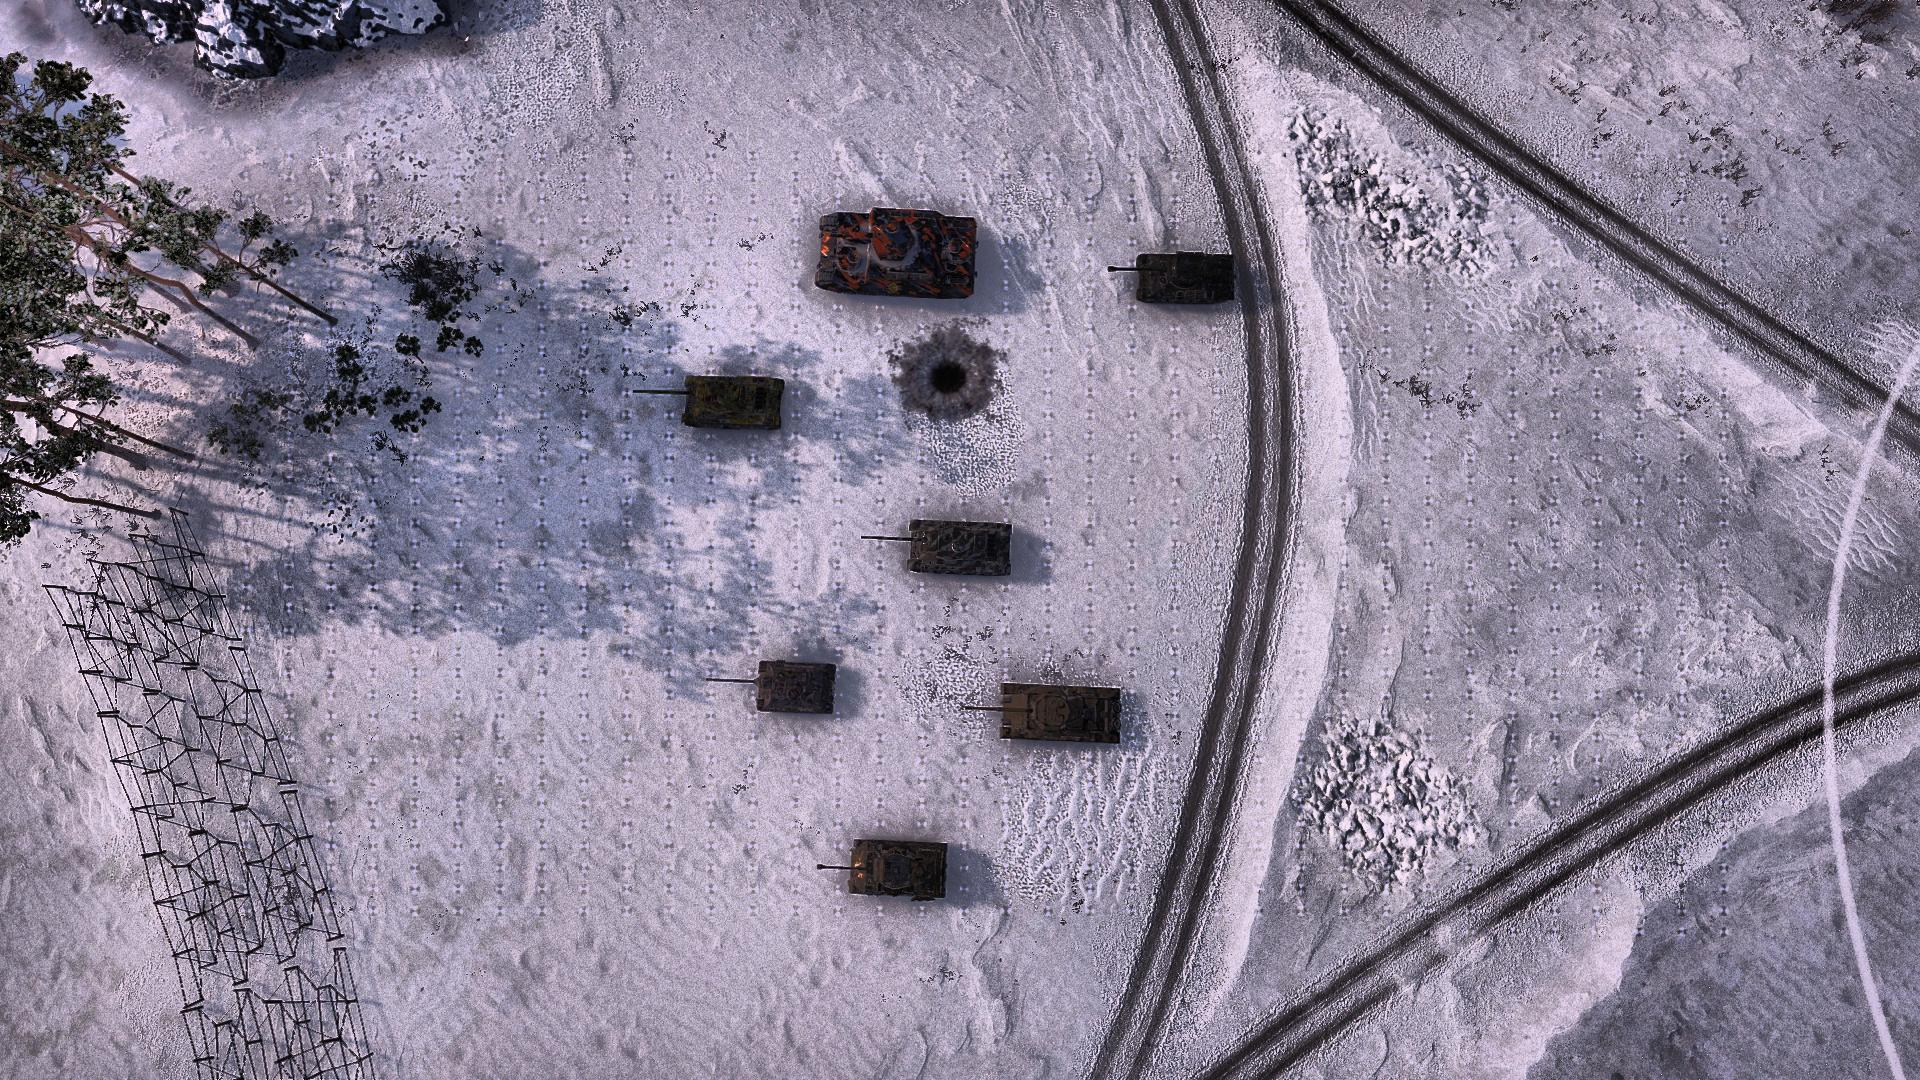military-vehicle: (814, 204, 977, 298), (961, 683, 1124, 745), (816, 835, 952, 903), (864, 517, 1015, 576), (633, 372, 785, 431), (705, 658, 840, 720), (1108, 251, 1236, 305)
